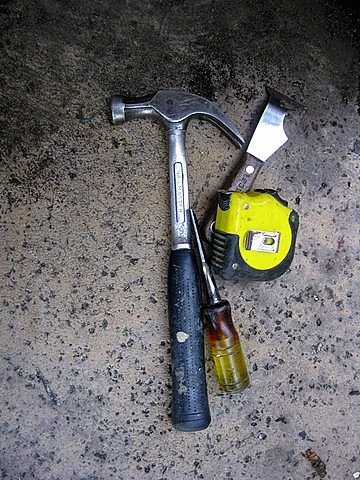hammer: (109, 87, 246, 435)
